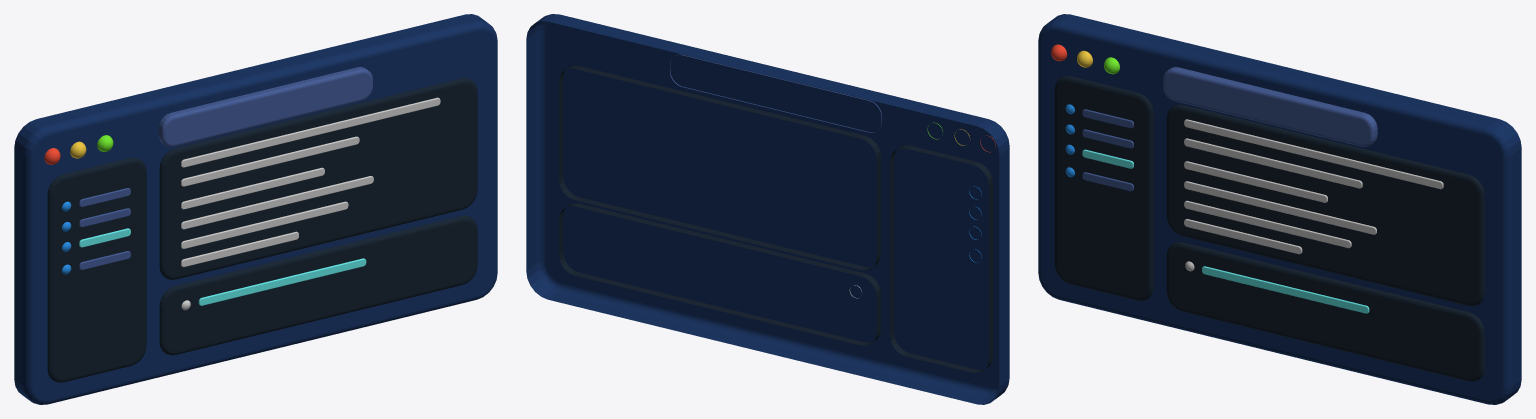
The model's file is vscode-transformed.glb.
3 views of the same model, side by side, from view 1: azimuth 30°, elevation 25°; view 2: azimuth 150°, elevation 25°; view 3: azimuth 330°, elevation 25° (orthographic).
Visible parts, largest first — view 1: Cube.004, Cube, Sphere.007, Cube.009, Cube.008; view 2: Cube, Cube.004, Cube.009; view 3: Cube.004, Cube, Sphere.007, Cube.009, Cube.008.
Part boxes in pixels (left/top/right/bottom): Cube.004: left=47, top=78, right=477, bottom=382; Cube: left=14, top=14, right=497, bottom=404; Sphere.007: left=181, top=97, right=440, bottom=310; Cube.009: left=79, top=67, right=372, bottom=269; Cube.008: left=79, top=228, right=366, bottom=305; Cube: left=526, top=14, right=1009, bottom=404; Cube.004: left=559, top=65, right=992, bottom=373; Cube.009: left=670, top=54, right=881, bottom=132; Cube.004: left=1054, top=76, right=1484, bottom=381; Cube: left=1038, top=14, right=1521, bottom=404; Sphere.007: left=1184, top=119, right=1443, bottom=271; Cube.009: left=1082, top=67, right=1377, bottom=191; Cube.008: left=1082, top=149, right=1369, bottom=313.
Size of the model in its own units: 3.56 by 2 by 0.2328.
